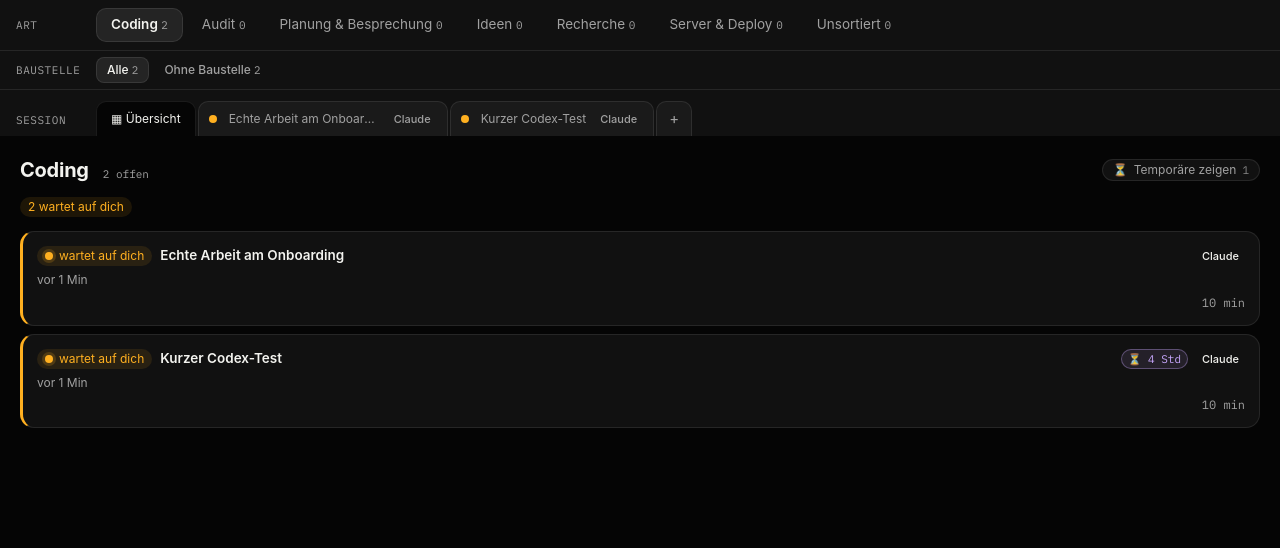
temporäre Sessions sind markiert und ausblendbar › Marke mit Sanduhr und Restzeit an temporären Karten, nicht an normalen
Check: the text "⏳ 4 Std" is shown, box [1128,351,1181,367]
Click the switch labelled "⏳ Temporäre zeigen 1" at [1181, 170], box [1102,159,1260,181]
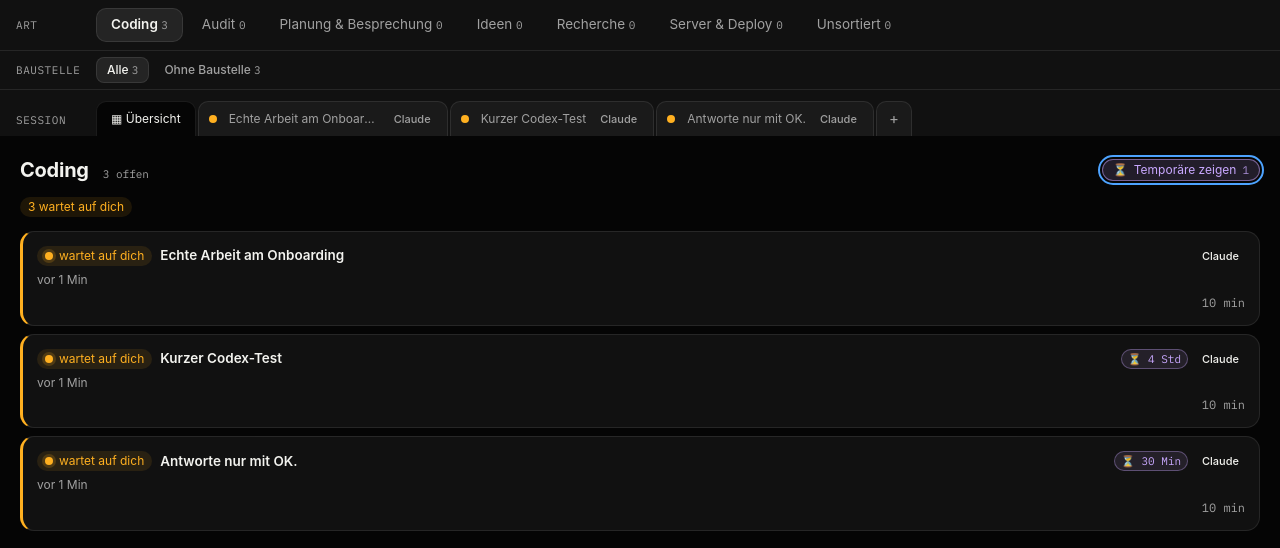
Check: the text "⏳ 30 Min" is shown, box [1121,453,1181,469]
